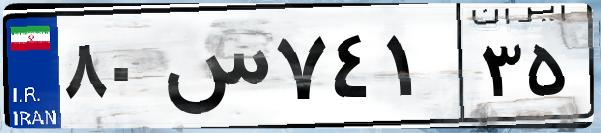0: (110, 28, 158, 98)
1: (385, 28, 445, 110)
3: (475, 38, 525, 113)
4: (330, 28, 385, 110)
5: (525, 38, 570, 115)
7: (270, 28, 330, 110)
8: (57, 26, 110, 100)
س: (158, 20, 270, 120)
